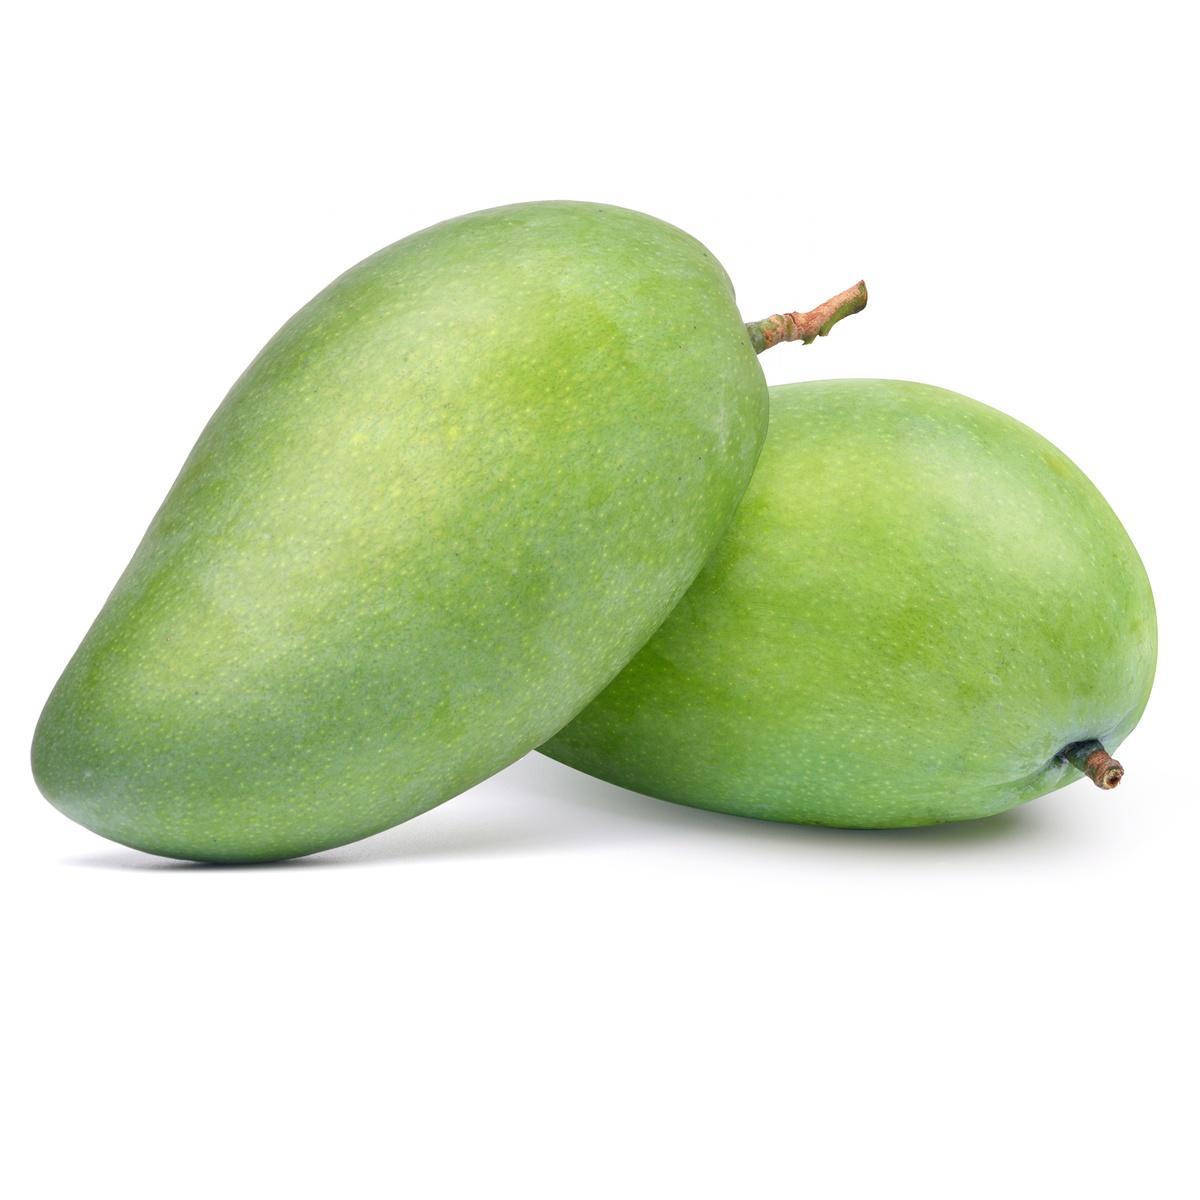mango: (30, 195, 834, 865), (533, 373, 1159, 831)
